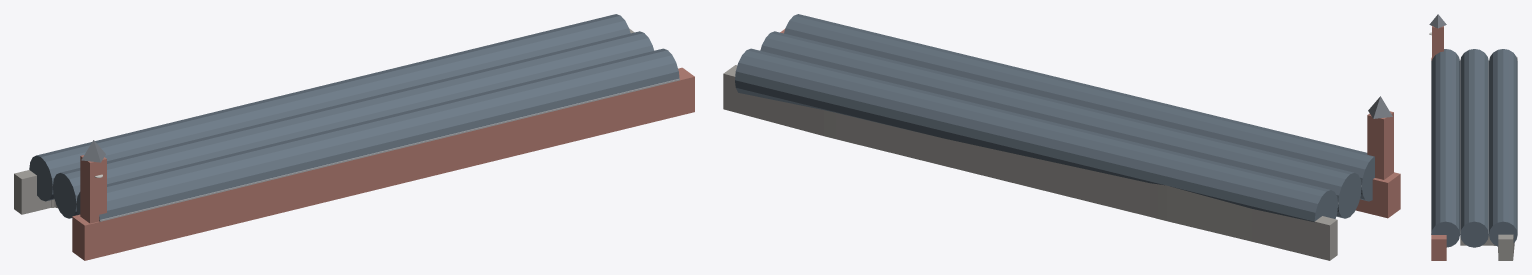
The model's file is landmark-basel-badischer-bahnhof.acd49eb21b.glb.
3 views of the same model, side by side, from view 1: azimuth 30°, elevation 25°; view 2: azimuth 150°, elevation 25°; view 3: azimuth 270°, elevation 25° (orthographic). The views are drawn at different scales.
Visible parts, largest first — view 1: building; view 2: building; view 3: building.
Boxes of the visible parts, box(x1,y1,x2,y2) form: building: box(14, 14, 694, 260); building: box(723, 14, 1400, 260); building: box(1429, 14, 1517, 260).
Bounding box in the file's own units: 253 × 44.99 × 51.96.
